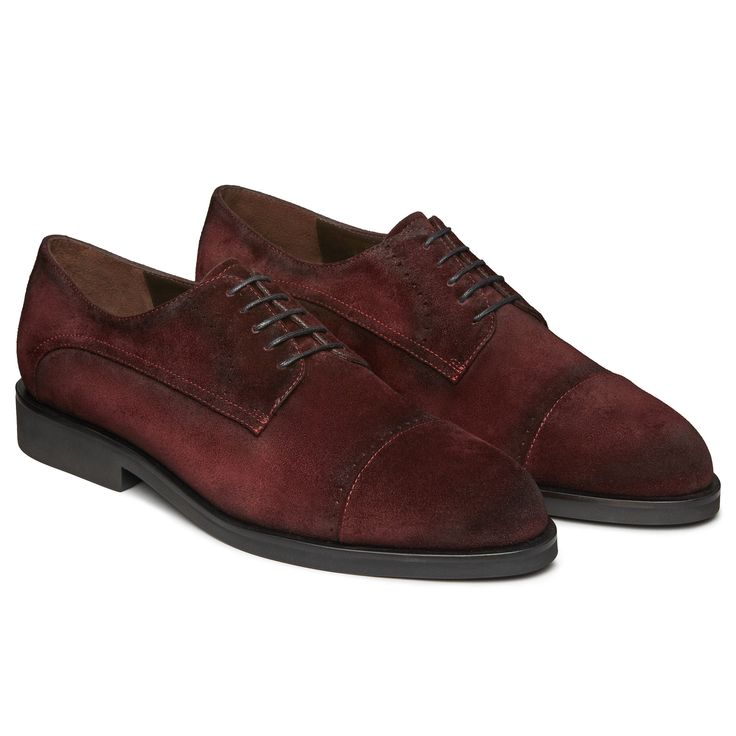gamuza: (17, 184, 714, 553)
